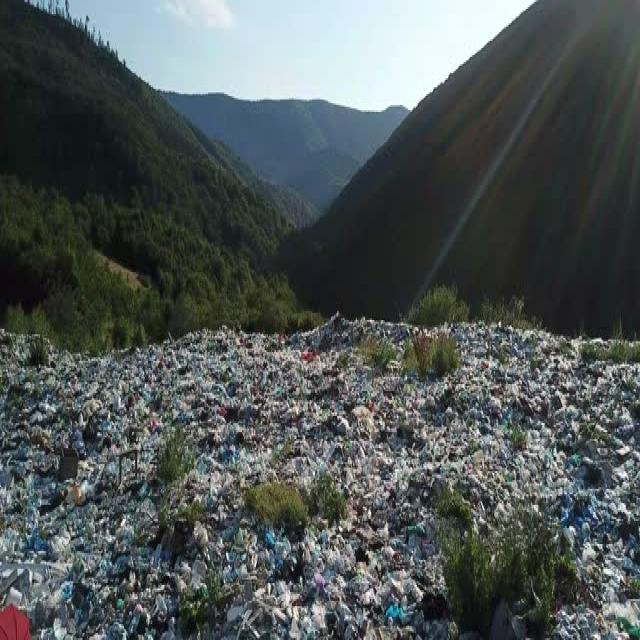plastic: (51, 368, 601, 629)
